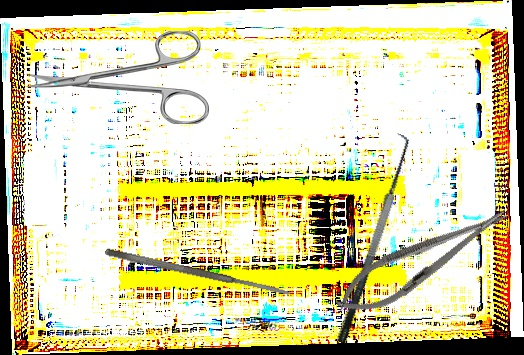Iris Scissors: (26, 31, 209, 124)
Needle Holder: (327, 194, 518, 328)
Spatula Surgical: (318, 131, 422, 345), (104, 246, 293, 300)
